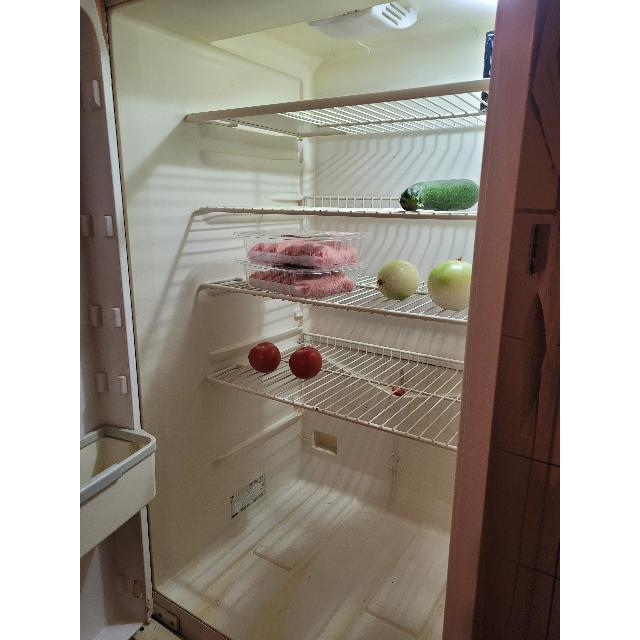meat: (248, 268, 356, 298), (248, 240, 356, 268)
onion: (426, 258, 470, 312), (376, 260, 419, 300)
tomato: (288, 344, 324, 380), (248, 342, 280, 374)
zucchini: (401, 178, 477, 212)
